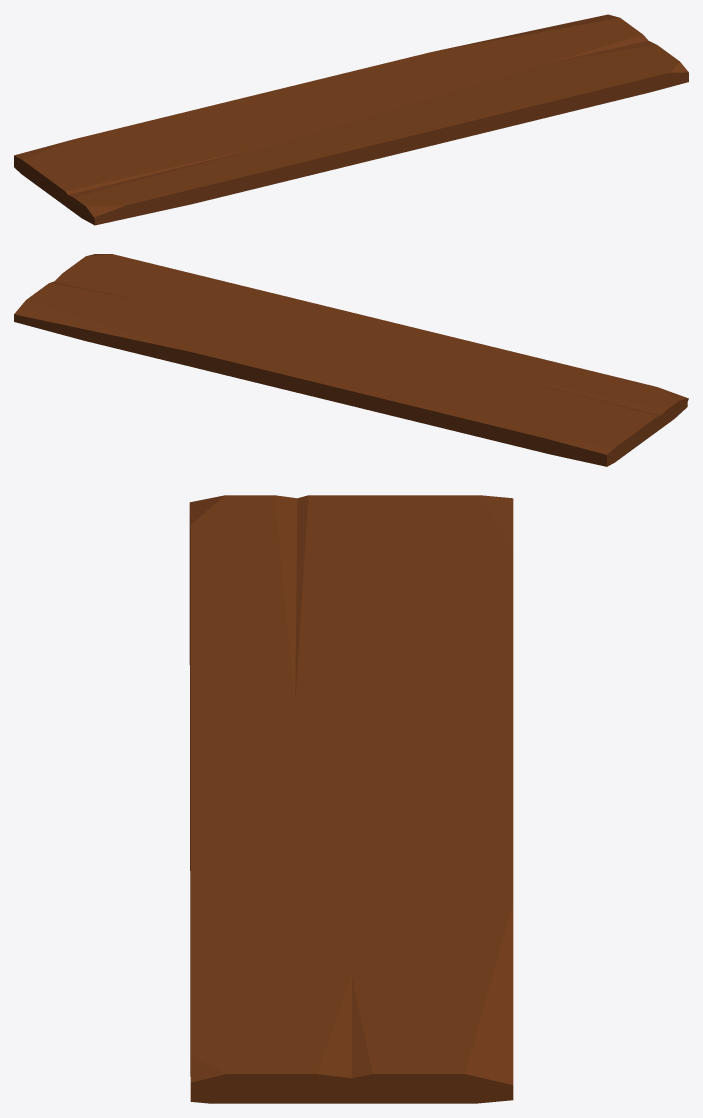
File: plank.fbx
3 views of the same model, one above another, from view 1: azimuth 30°, elevation 25°; view 2: azimuth 150°, elevation 25°; view 3: azimuth 270°, elevation 25° (orthographic). The views are drawn at different scales.
Visible parts, largest first — view 1: Cube; view 2: Cube; view 3: Cube.
Boxes of the visible parts, left/top/right/bottom form: Cube: left=14, top=14, right=688, bottom=225; Cube: left=14, top=254, right=688, bottom=466; Cube: left=189, top=495, right=513, bottom=1103.
Size of the model in its own units: 850 by 20.31 by 201.
